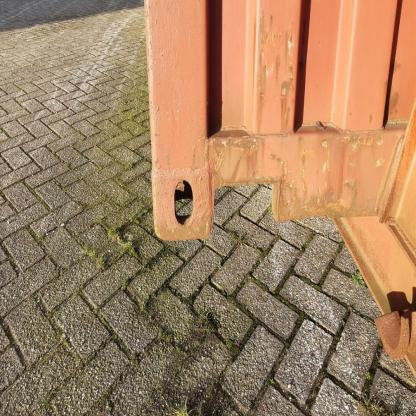CornerCasting: (149, 162, 217, 245)
